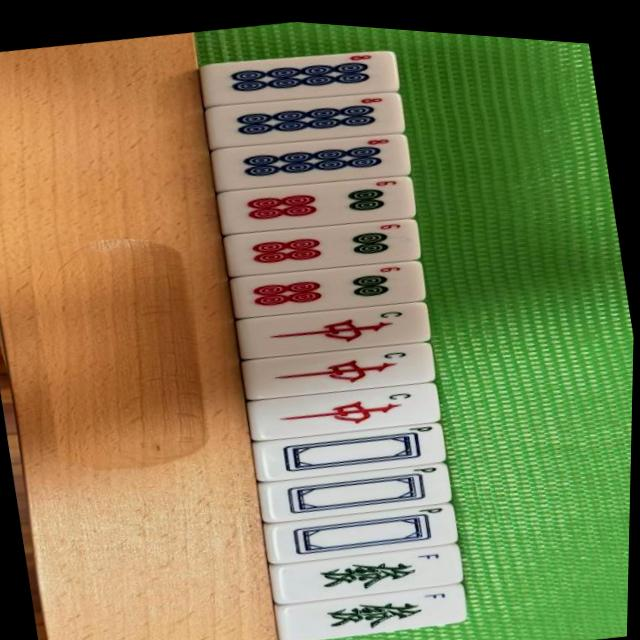hdg: (285, 532, 459, 603), (292, 572, 458, 640)
hdr: (251, 331, 425, 403), (260, 371, 432, 442), (248, 290, 415, 360)
hdw: (272, 486, 457, 566), (264, 447, 451, 526), (262, 409, 442, 484)
sd6: (224, 162, 410, 238), (233, 246, 414, 321), (238, 203, 416, 278)
sd8: (210, 35, 391, 108), (217, 78, 391, 150), (223, 119, 396, 191)
